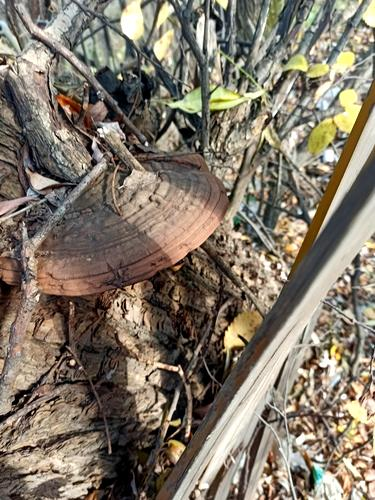Ganoderma - Fruit Body: (2, 148, 228, 301)
